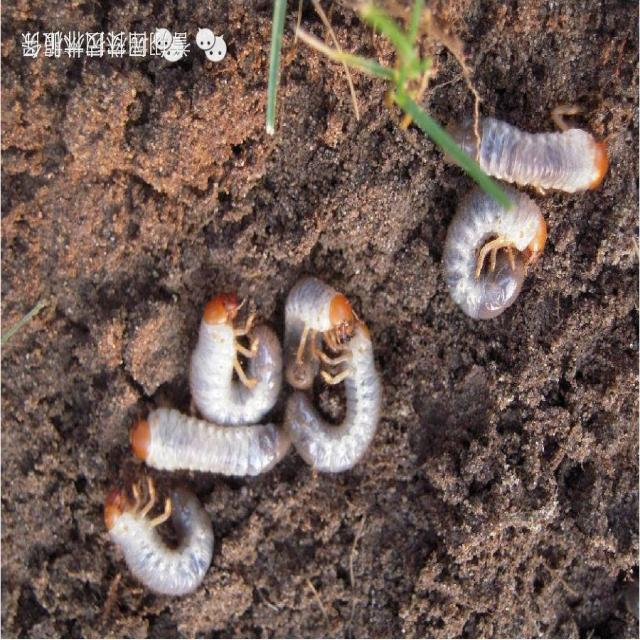grub: (270, 289, 393, 473), (423, 106, 608, 199), (93, 488, 220, 601), (442, 195, 545, 319), (130, 409, 293, 486), (194, 304, 288, 424)
